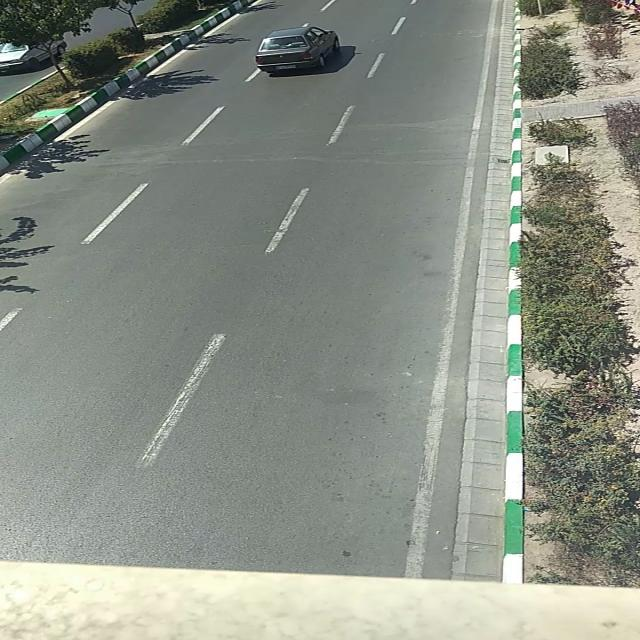car: (256, 25, 342, 71), (0, 36, 65, 70)
